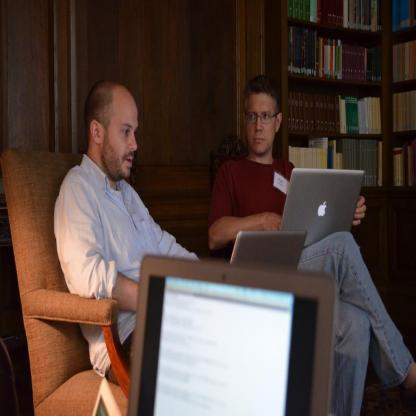board: (129, 261, 329, 416), (280, 168, 364, 232), (231, 232, 306, 268)
